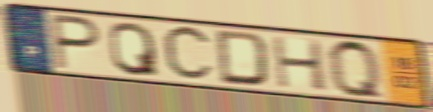C: (159, 23, 216, 85)
D: (214, 28, 272, 89)
H: (268, 34, 331, 93)
P: (49, 12, 104, 73)
Q: (325, 37, 390, 104), (107, 20, 162, 78)
